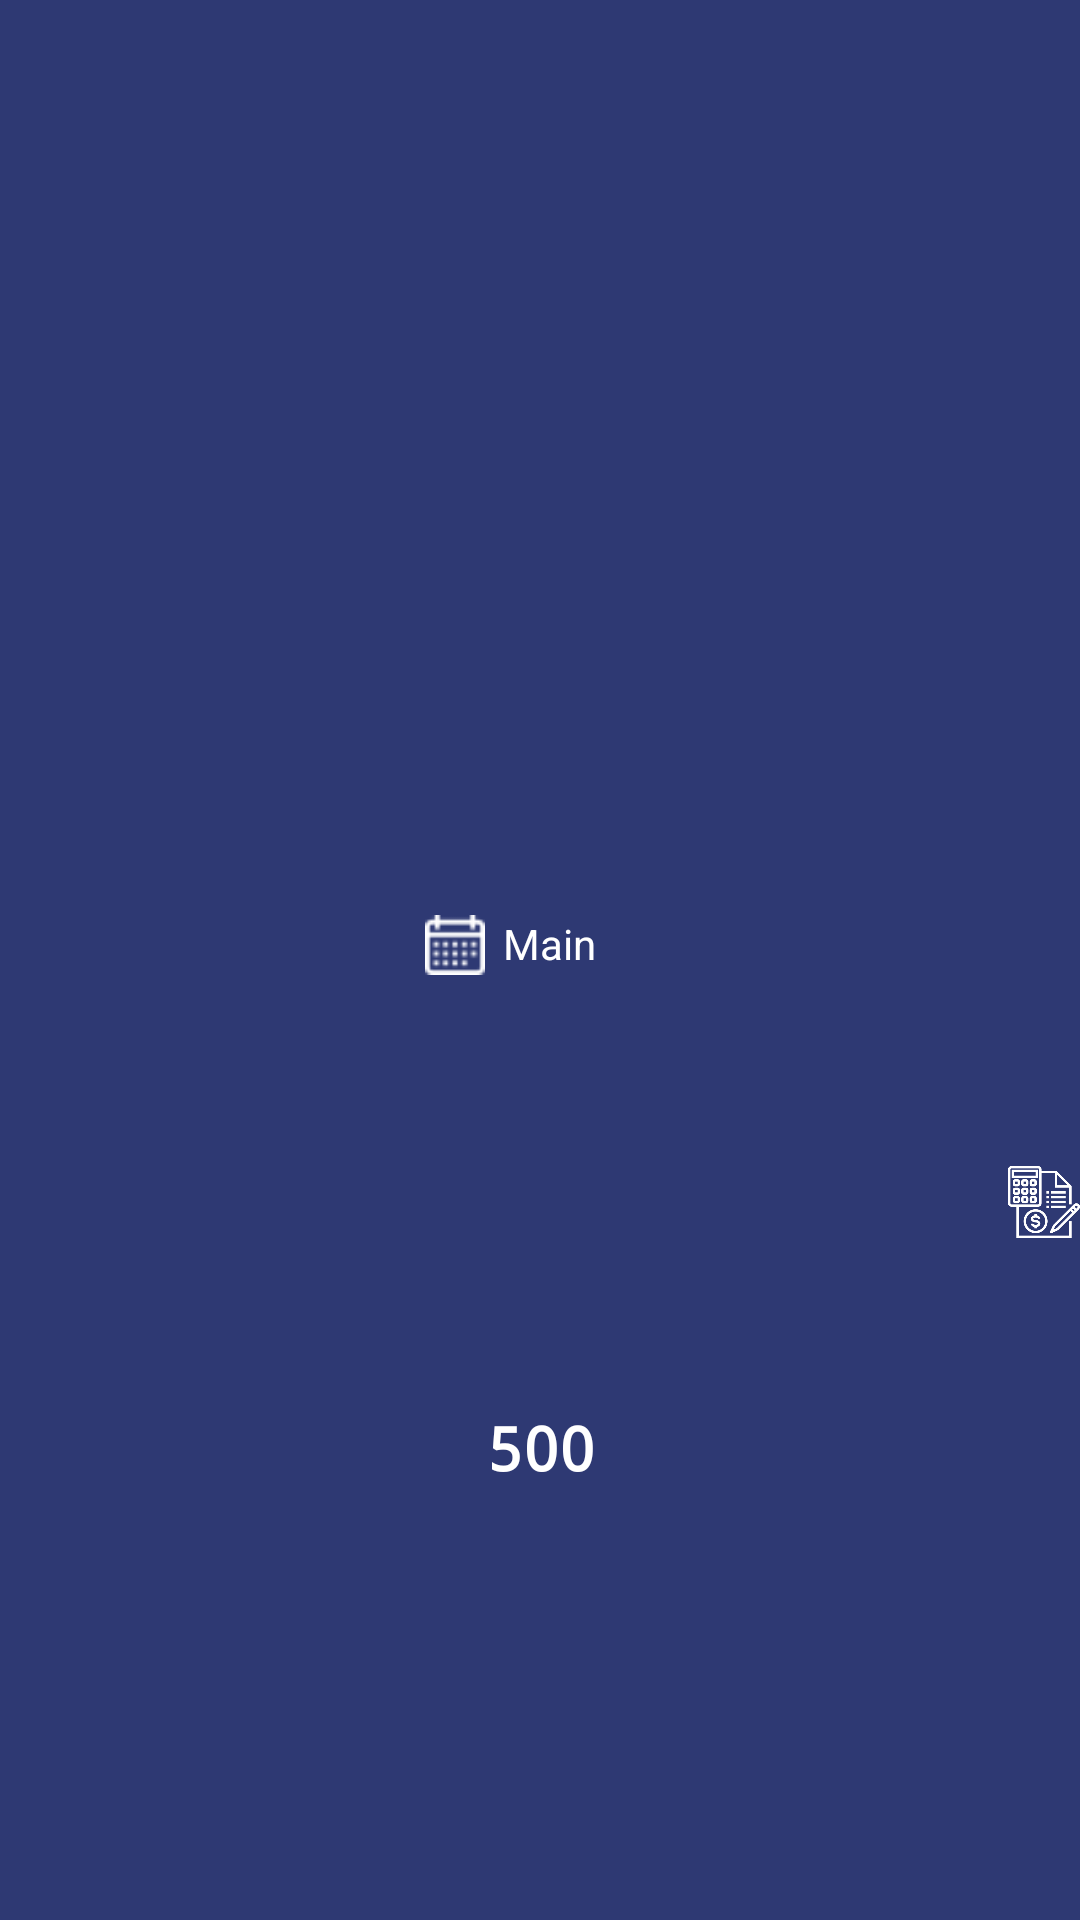

Icons on this 1080 × 1920 Android screen, each with the point to tap as [x,y]:
accounting: [1044,1202]
calendar: [455,945]
